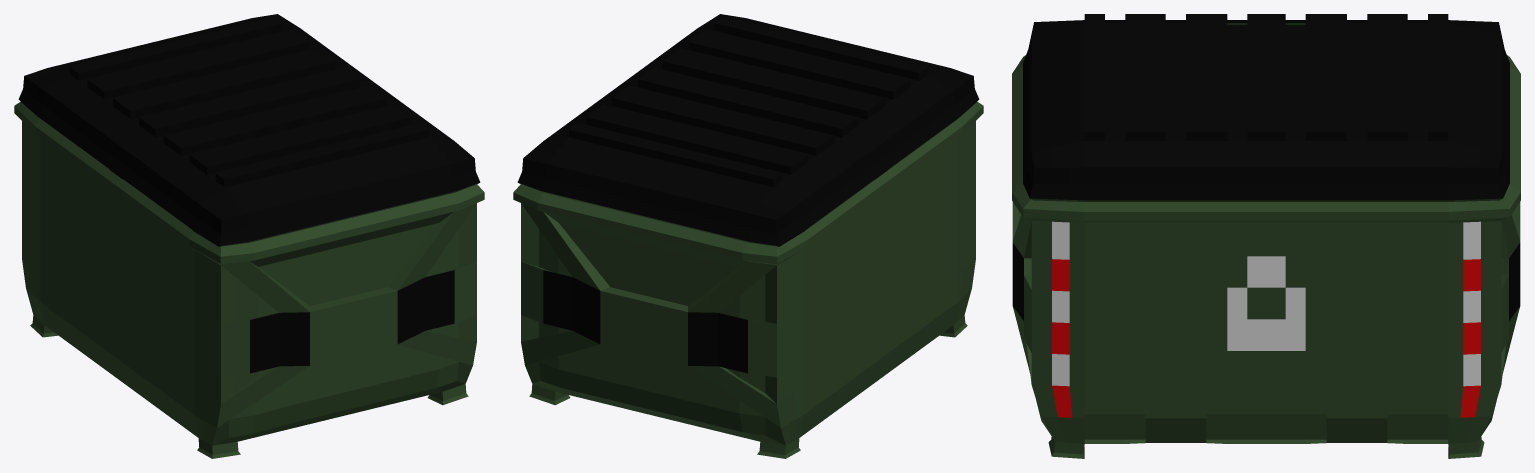
Rendered from contenedor.glb.
The picture shows the model from 3 angles, left to right: view 1: azimuth 30°, elevation 25°; view 2: azimuth 150°, elevation 25°; view 3: azimuth 270°, elevation 25°; orthographic projection. The views are drawn at different scales.
Parts seen in each view (by area): view 1: Cube; view 2: Cube; view 3: Cube.
Boxes of the visible parts, x1=… form: Cube: x1=14, y1=14, x2=484, y2=458; Cube: x1=513, y1=14, x2=983, y2=458; Cube: x1=1012, y1=14, x2=1520, y2=458.
Size of the model in its own units: 3.15 by 2.93 by 4.28.
